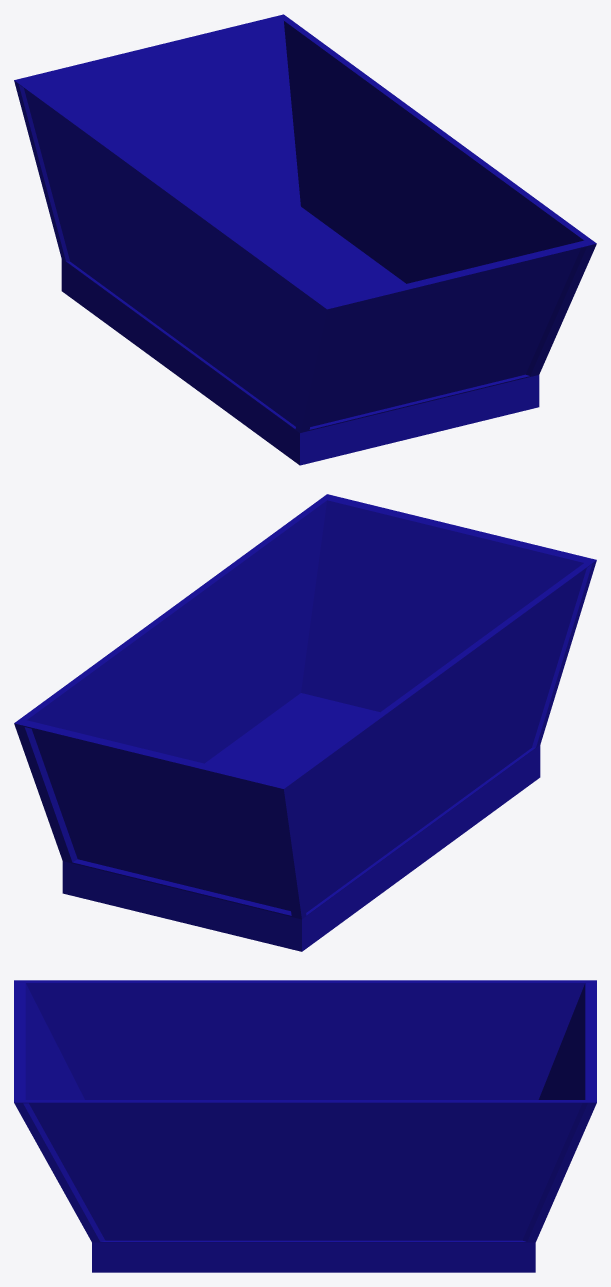
File: SimpleHopper.fbx
The picture shows the model from 3 angles, top to bottom: view 1: azimuth 30°, elevation 25°; view 2: azimuth 150°, elevation 25°; view 3: azimuth 270°, elevation 25°; orthographic projection. The views are drawn at different scales.
Parts seen in each view (by area): view 1: Cube; view 2: Cube; view 3: Cube.
Boxes of the visible parts, x1,y1,x2,y2 form: Cube: [14, 14, 596, 465]; Cube: [14, 494, 596, 951]; Cube: [14, 980, 596, 1272].
Bounding box in the file's own units: 239 × 161 × 480.
